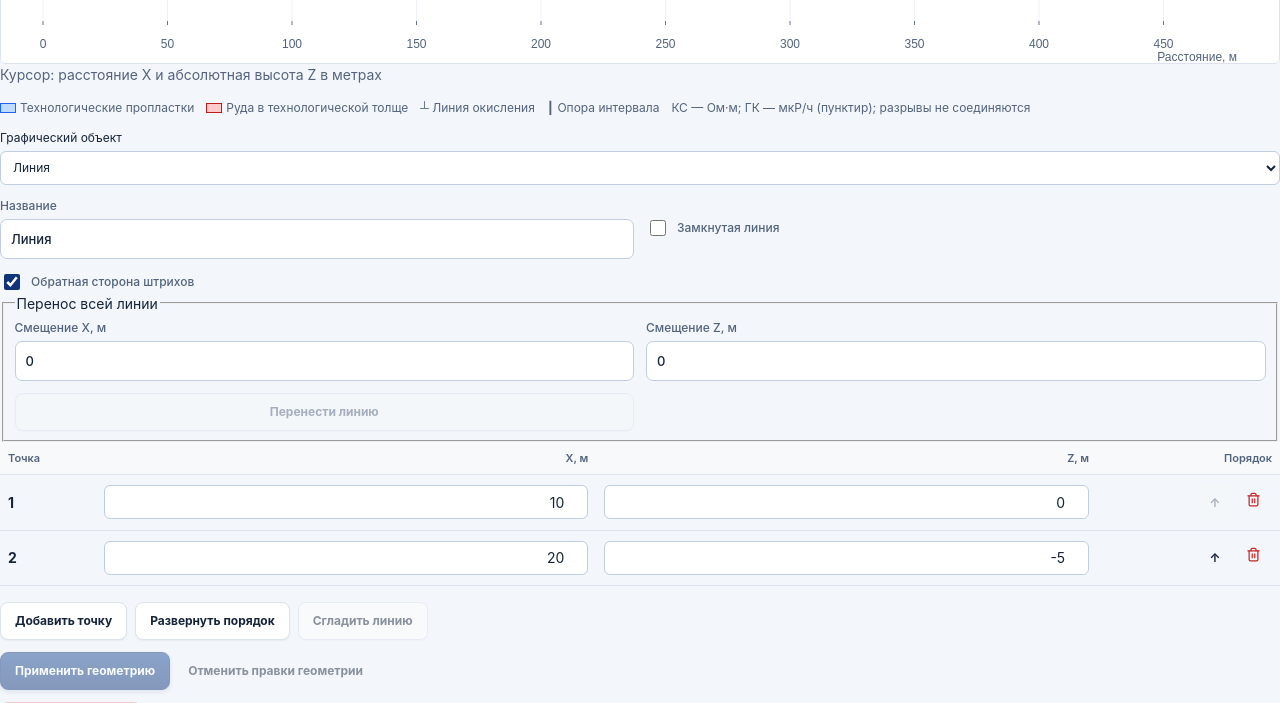
Test: manual section geometry › translates every oxidation point in a draft and rejects moving outside working bounds
(page scrolled)
Replace the text in the number field labelled "Смещение X, м" with "5". click: x=324, y=361
box: [14,341,634,381]
Replace the text in the number field labelled "Смещение Z, м" with "-2". click: x=956, y=361
box: [646,341,1266,381]
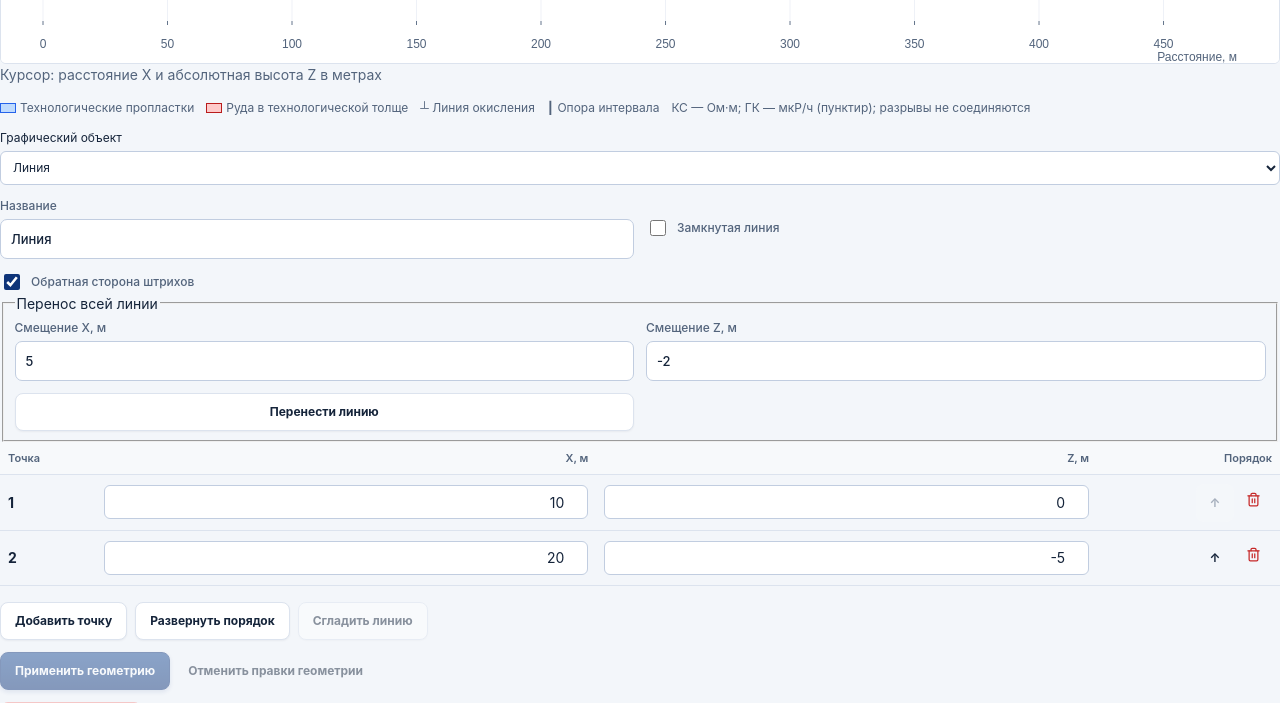
Click the button "Перенести линию". click: x=324, y=412
box: [14,393,634,431]
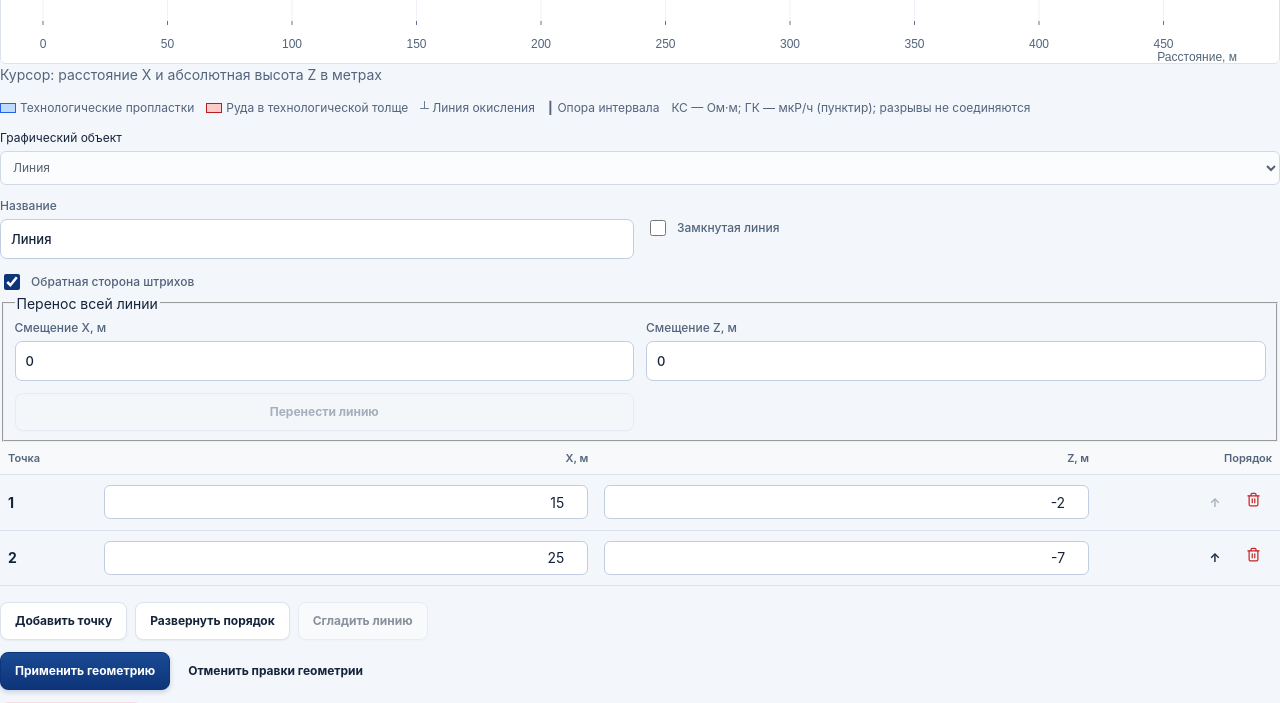
Check: the number field named "Точка 1, X" holds "15", box [104,485,588,519]
Check: the number field named "Точка 2, Z" holds "-7", box [604,541,1089,575]
Click the button "Применить геометрию". click: x=85, y=671
box: [0,652,170,690]
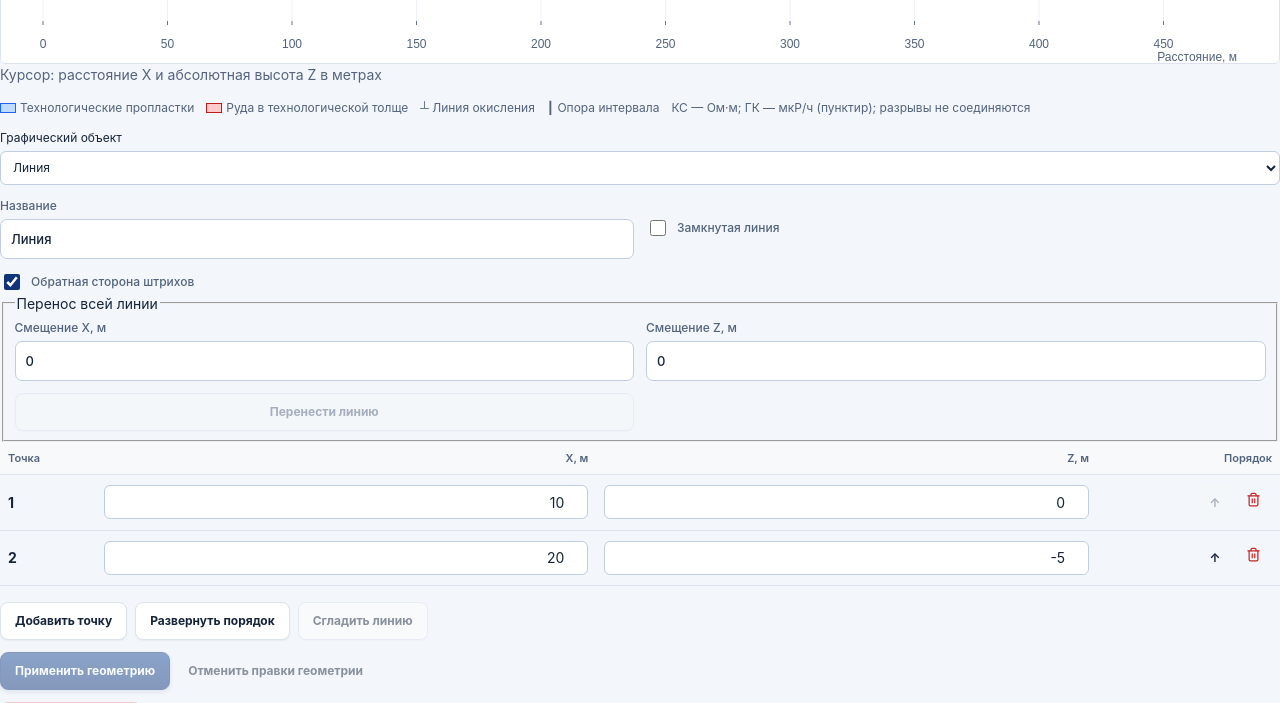
Replace the text in the number field labelled "Смещение Z, м" with "100". click: x=956, y=361
box: [646,341,1266,381]
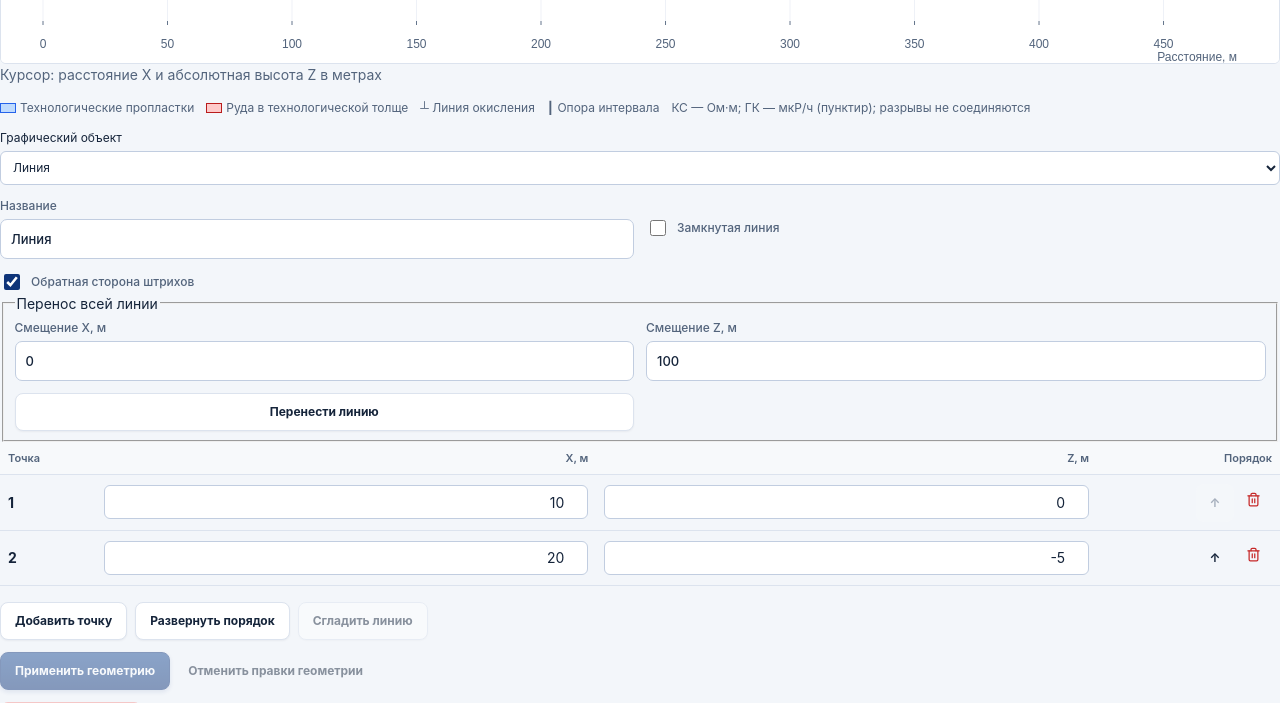
Click the button "Перенести линию". click: x=324, y=412
box: [14,393,634,431]
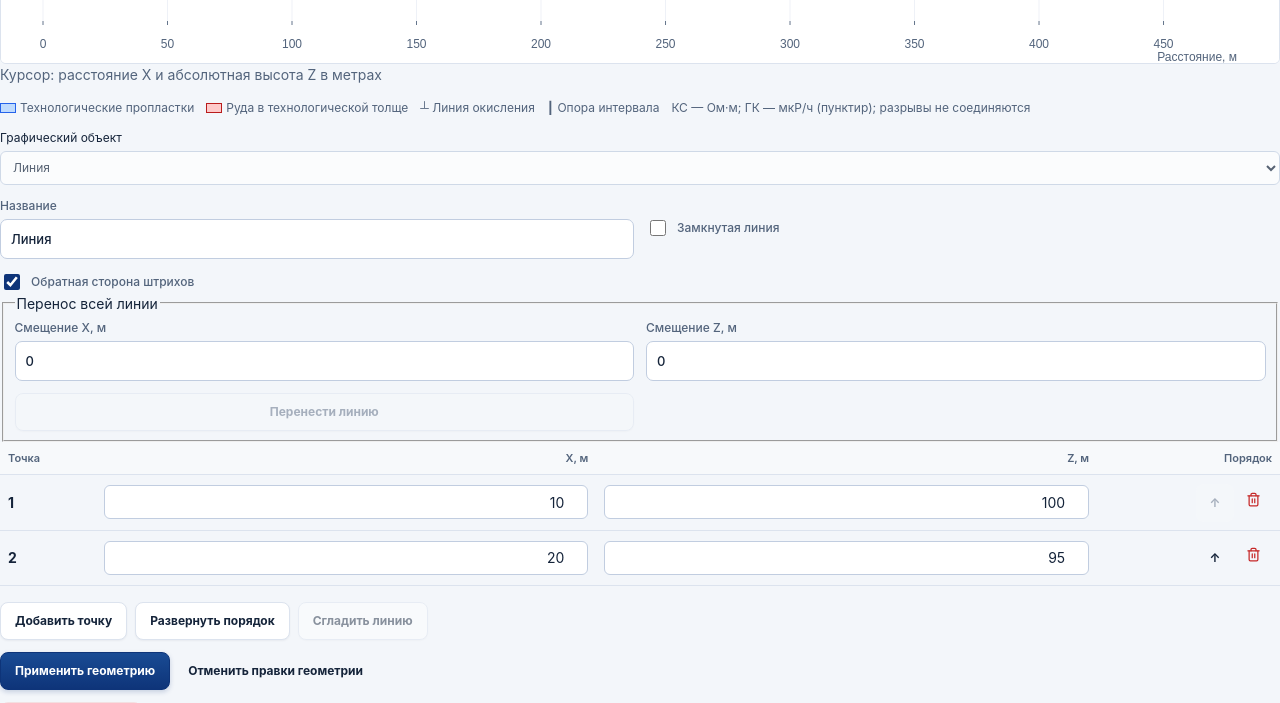
Click the button "Применить геометрию". click: x=85, y=671
box: [0,652,170,690]
(page scrolled)
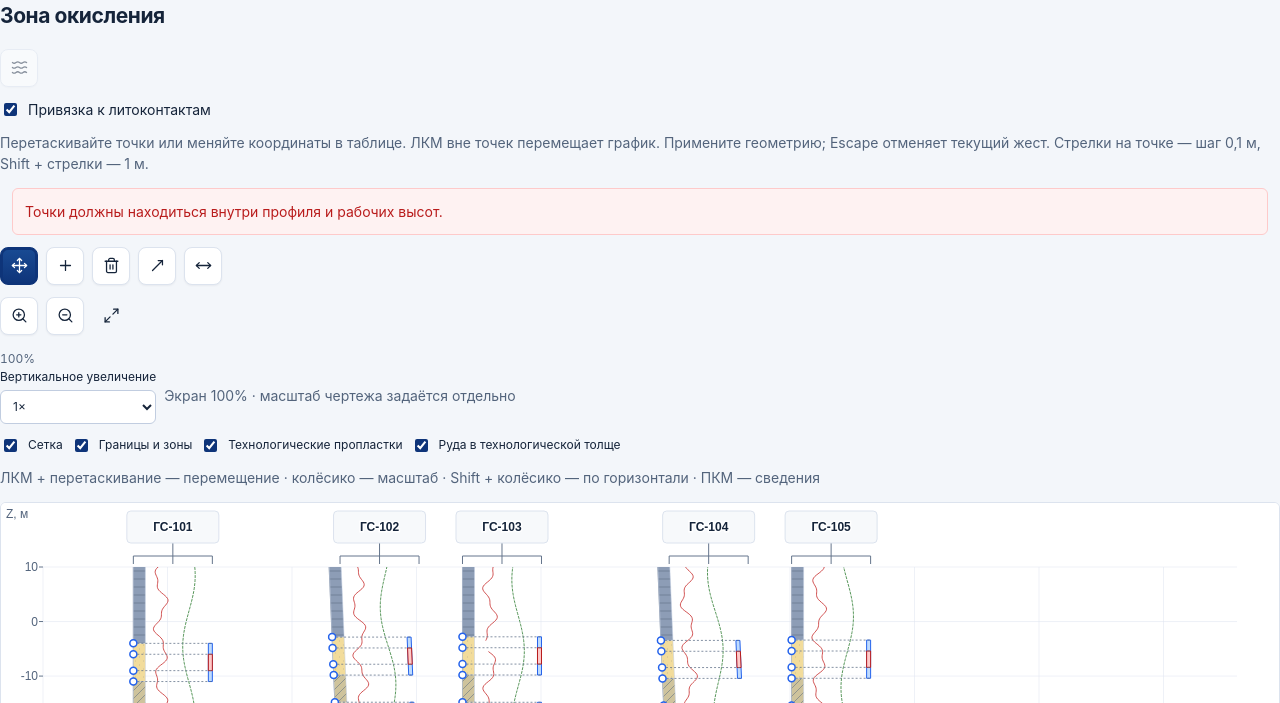
Check: the message shows "рабочих высот", box [25,203,443,220]
